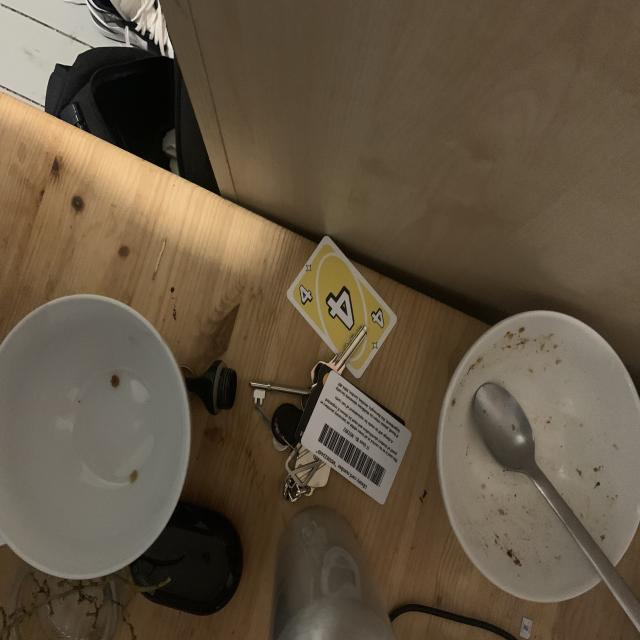lyellow-4: (294, 277, 314, 304)
